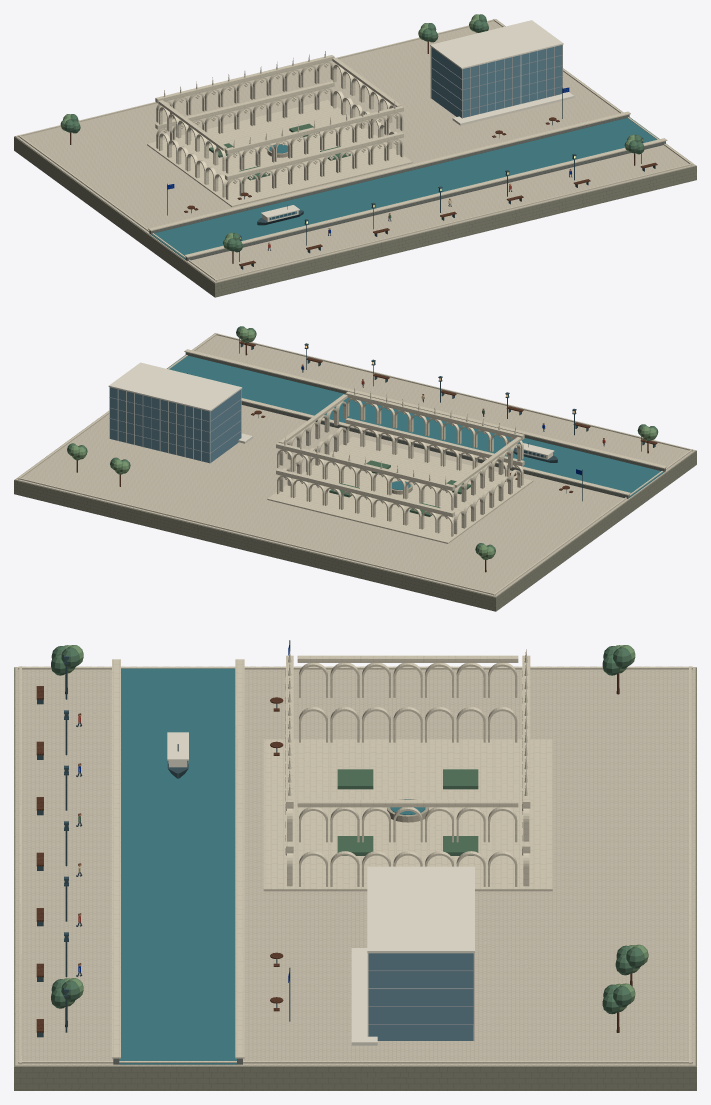
Rendered from lisboa-reference.glb.
3 views of the same model, one above another, from view 1: azimuth 30°, elevation 25°; view 2: azimuth 150°, elevation 25°; view 3: azimuth 270°, elevation 25° (orthographic). The views are drawn at different scales.
Parts seen in each view (by area): view 1: lisboa_arquitetura_Calcada portuguesa, lisboa_arquitetura_Cantaria clara, lisboa_arquitetura_Douro agua, lisboa_arquitetura_Corte de terreno, lisboa_arquitetura_Vidro institucional, lisboa_arquitetura_Marfim pintado, lisboa_arquitetura_Muralha de granito, lisboa_arquitetura_Folhagem, lisboa_arquitetura_Aco polido, lisboa_arquitetura_Madeira de rabelo, lisboa_arquitetura_Ferro pintado da ponte, lisboa_arquitetura_Folhagem clara; view 2: lisboa_arquitetura_Calcada portuguesa, lisboa_arquitetura_Cantaria clara, lisboa_arquitetura_Corte de terreno, lisboa_arquitetura_Douro agua, lisboa_arquitetura_Vidro institucional, lisboa_arquitetura_Marfim pintado, lisboa_arquitetura_Muralha de granito, lisboa_arquitetura_Folhagem clara, lisboa_arquitetura_Folhagem, lisboa_arquitetura_Aco polido, lisboa_arquitetura_Madeira de rabelo, lisboa_arquitetura_Ferro pintado da ponte; view 3: lisboa_arquitetura_Calcada portuguesa, lisboa_arquitetura_Cantaria clara, lisboa_arquitetura_Douro agua, lisboa_arquitetura_Corte de terreno, lisboa_arquitetura_Marfim pintado, lisboa_arquitetura_Vidro institucional, lisboa_arquitetura_Folhagem, lisboa_arquitetura_Ferro pintado da ponte, lisboa_arquitetura_Madeira de rabelo, lisboa_arquitetura_Folhagem clara, Barco_lisboa_Marfim pintado, lisboa_arquitetura_Aco polido.
Part boxes in pixels (x1=…): lisboa_arquitetura_Calcada portuguesa: x1=15, y1=19, x2=695, y2=283; lisboa_arquitetura_Cantaria clara: x1=17, y1=19, x2=693, y2=281; lisboa_arquitetura_Douro agua: x1=151, y1=117, x2=659, y2=259; lisboa_arquitetura_Corte de terreno: x1=14, y1=83, x2=696, y2=297; lisboa_arquitetura_Vidro institucional: x1=431, y1=45, x2=562, y2=117; lisboa_arquitetura_Marfim pintado: x1=430, y1=20, x2=574, y2=125; lisboa_arquitetura_Muralha de granito: x1=149, y1=114, x2=665, y2=261; lisboa_arquitetura_Folhagem: x1=64, y1=14, x2=644, y2=252; lisboa_arquitetura_Aco polido: x1=431, y1=45, x2=562, y2=111; lisboa_arquitetura_Madeira de rabelo: x1=70, y1=41, x2=657, y2=266; lisboa_arquitetura_Ferro pintado da ponte: x1=167, y1=87, x2=655, y2=269; lisboa_arquitetura_Folhagem clara: x1=60, y1=14, x2=635, y2=251; lisboa_arquitetura_Calcada portuguesa: x1=15, y1=333, x2=695, y2=597; lisboa_arquitetura_Cantaria clara: x1=17, y1=333, x2=693, y2=595; lisboa_arquitetura_Corte de terreno: x1=14, y1=334, x2=696, y2=611; lisboa_arquitetura_Douro agua: x1=167, y1=355, x2=664, y2=497; lisboa_arquitetura_Vidro institucional: x1=110, y1=387, x2=241, y2=462; lisboa_arquitetura_Marfim pintado: x1=108, y1=362, x2=252, y2=463; lisboa_arquitetura_Muralha de granito: x1=185, y1=352, x2=665, y2=498; lisboa_arquitetura_Folhagem clara: x1=69, y1=327, x2=657, y2=559; lisboa_arquitetura_Folhagem: x1=67, y1=326, x2=658, y2=554; lisboa_arquitetura_Aco polido: x1=109, y1=387, x2=241, y2=453; lisboa_arquitetura_Madeira de rabelo: x1=76, y1=341, x2=657, y2=572; lisboa_arquitetura_Ferro pintado da ponte: x1=187, y1=327, x2=655, y2=501; lisboa_arquitetura_Calcada portuguesa: x1=15, y1=667, x2=695, y2=1066; lisboa_arquitetura_Cantaria clara: x1=18, y1=648, x2=692, y2=1064; lisboa_arquitetura_Douro agua: x1=119, y1=668, x2=425, y2=1064; lisboa_arquitetura_Corte de terreno: x1=14, y1=667, x2=696, y2=1090; lisboa_arquitetura_Marfim pintado: x1=351, y1=866, x2=474, y2=1045; lisboa_arquitetura_Vidro institucional: x1=368, y1=953, x2=473, y2=1040; lisboa_arquitetura_Folhagem: x1=51, y1=646, x2=644, y2=1014; lisboa_arquitetura_Ferro pintado da ponte: x1=37, y1=640, x2=290, y2=1037; lisboa_arquitetura_Madeira de rabelo: x1=36, y1=673, x2=632, y2=1032; lisboa_arquitetura_Folhagem clara: x1=64, y1=645, x2=648, y2=1012; Barco_lisboa_Marfim pintado: x1=167, y1=732, x2=188, y2=767; lisboa_arquitetura_Aco polido: x1=368, y1=953, x2=473, y2=1024.
Bounding box in the file's own units: 72 × 10.6 × 52.
21 materials, 6 textured.
